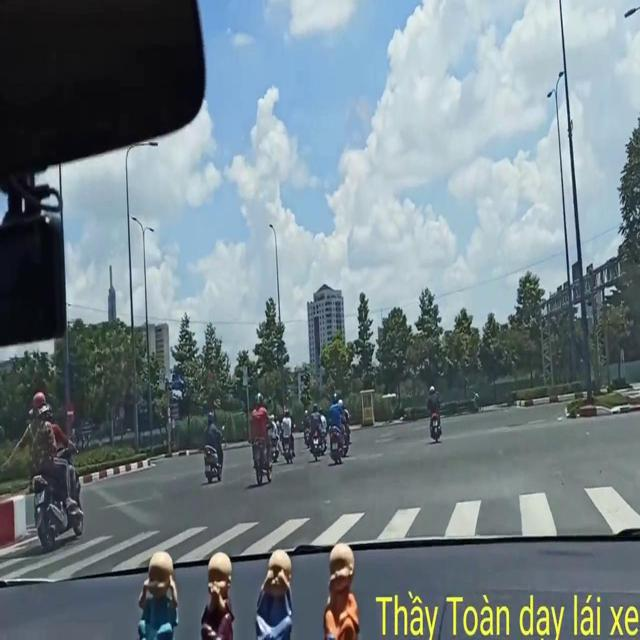Cấm đi ngược chiều: (59, 395, 74, 429)
